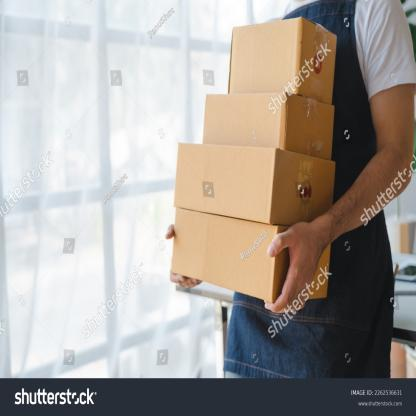box: (171, 207, 277, 306), (175, 144, 276, 224), (226, 16, 301, 94), (202, 92, 284, 145)
